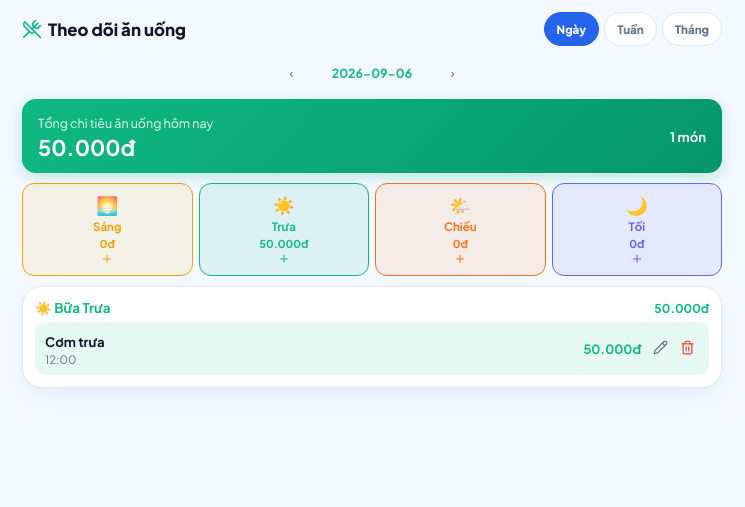
Scenario: NutritionPage (Ăn uống) › chuyển sang xem theo tuần và lọc theo bữa
Click the button "Tuần" at (630, 29), box [604,12,657,46]
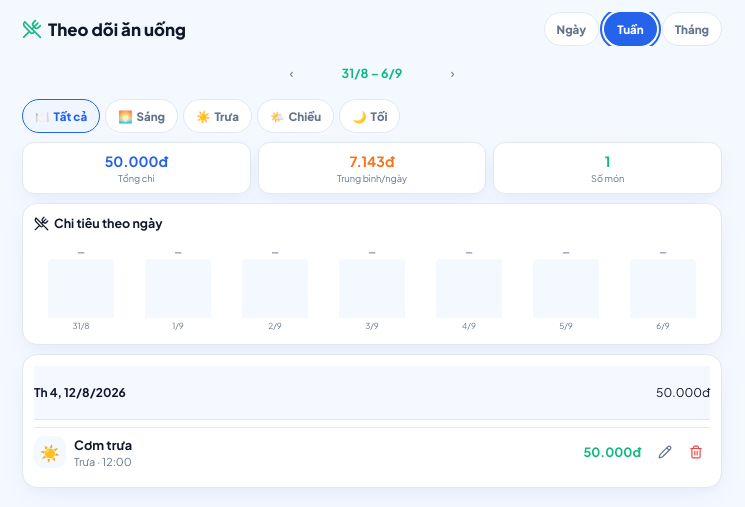
Expected: the text "Cơm trưa" is shown, [74,436,132,452]
Expected: the element named "Lọc theo bữa" is shown, [22,99,400,133]
